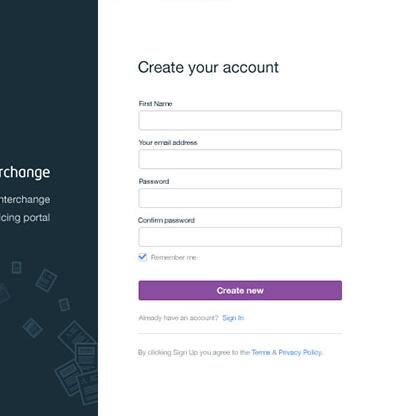button: (138, 280, 343, 300)
checkbox: (136, 252, 150, 263)
checkbox_with_label: (133, 250, 197, 265)
field: (136, 108, 343, 131), (138, 147, 342, 170), (134, 225, 343, 247), (136, 187, 342, 209)
